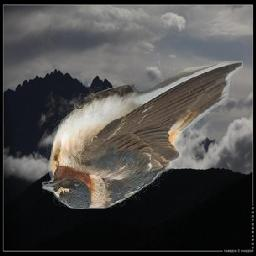Swallow: (43, 61, 244, 209)
